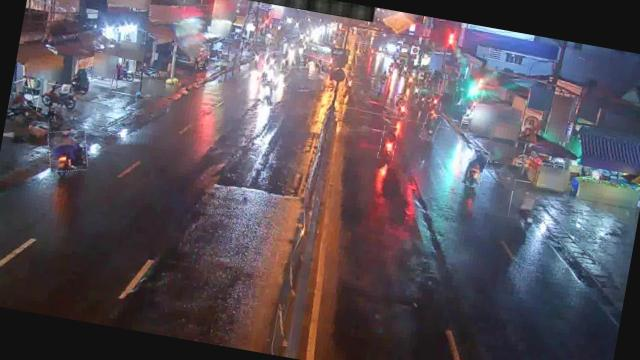Bike: (44, 126, 92, 175), (507, 179, 546, 235), (36, 81, 84, 118), (462, 148, 489, 188), (378, 126, 399, 161), (421, 112, 441, 141), (258, 81, 278, 108), (392, 94, 410, 120), (429, 92, 444, 112), (416, 89, 427, 108)
